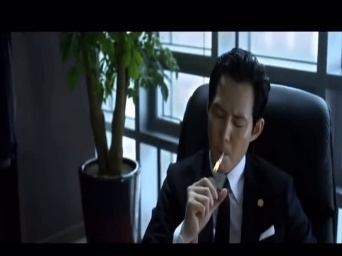smoke: (213, 153, 222, 172)
